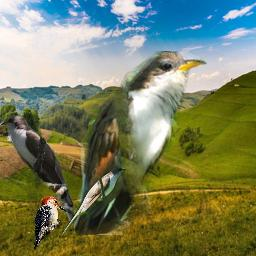Cuckoo: (74, 51, 207, 235), (0, 115, 83, 225), (61, 166, 126, 236)
Woodpecker: (34, 196, 68, 250)
